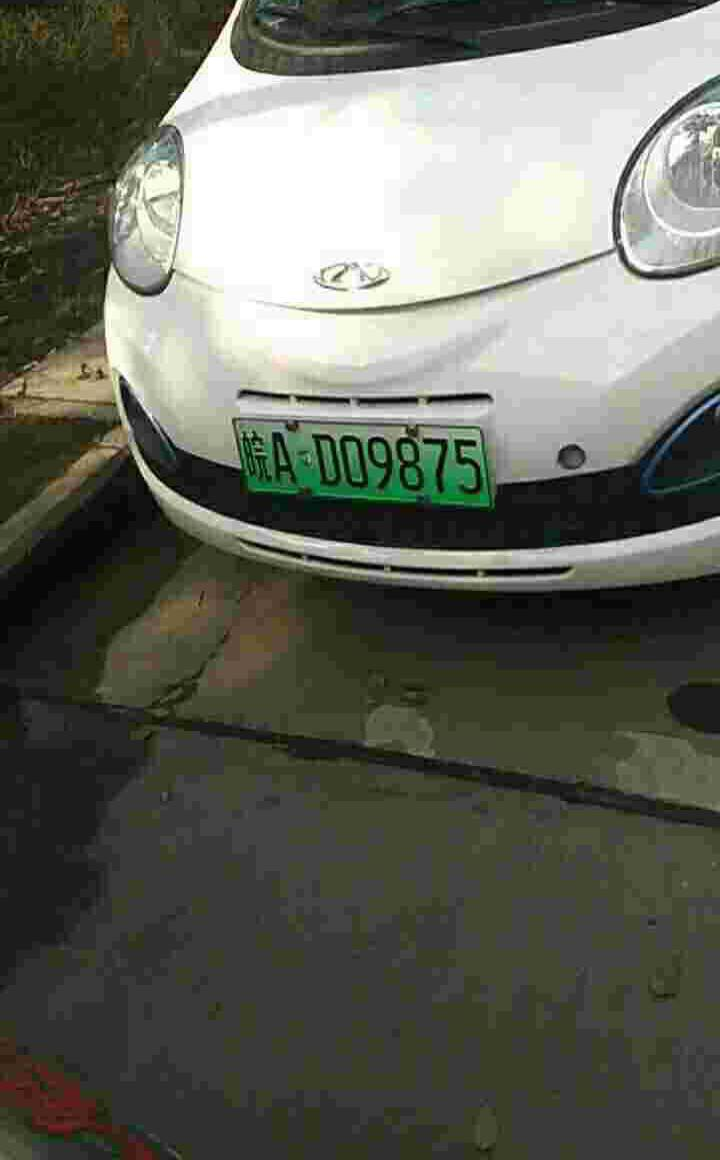car: (227, 416, 496, 514)
